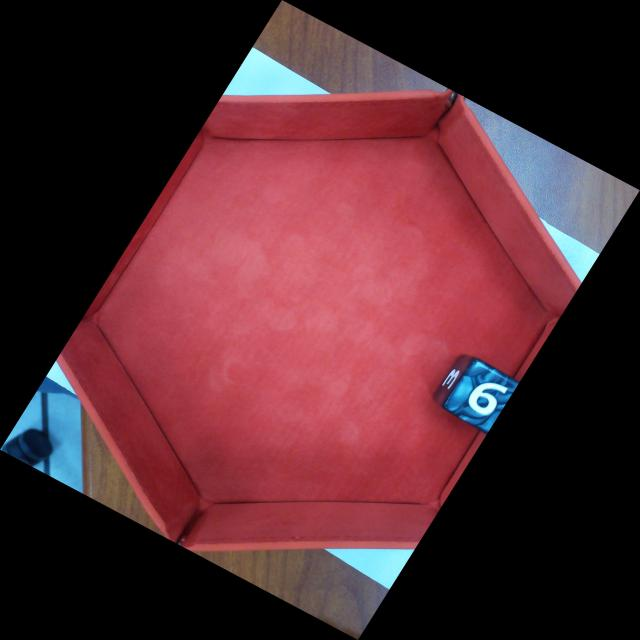dice: (442, 361, 523, 432)
